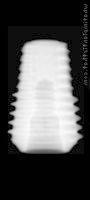Hiossen: (8, 25, 84, 155)
